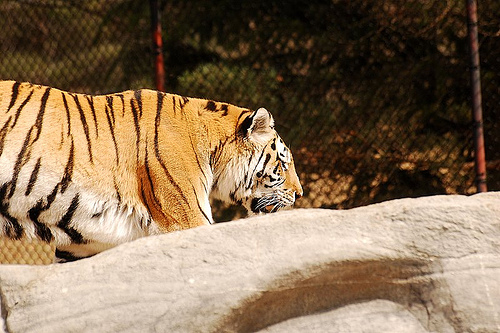Tigre: (11, 68, 307, 238)
